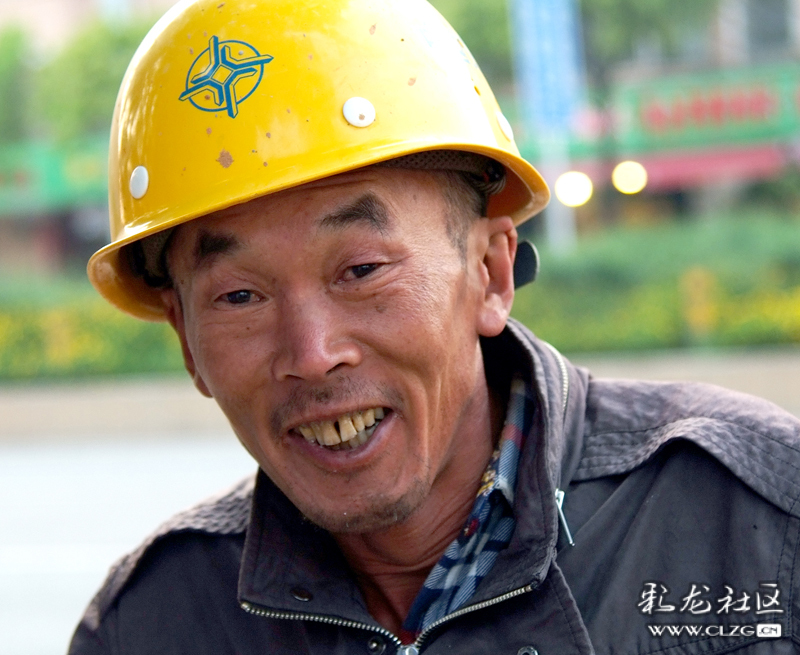safetyhat: (49, 1, 743, 633)
